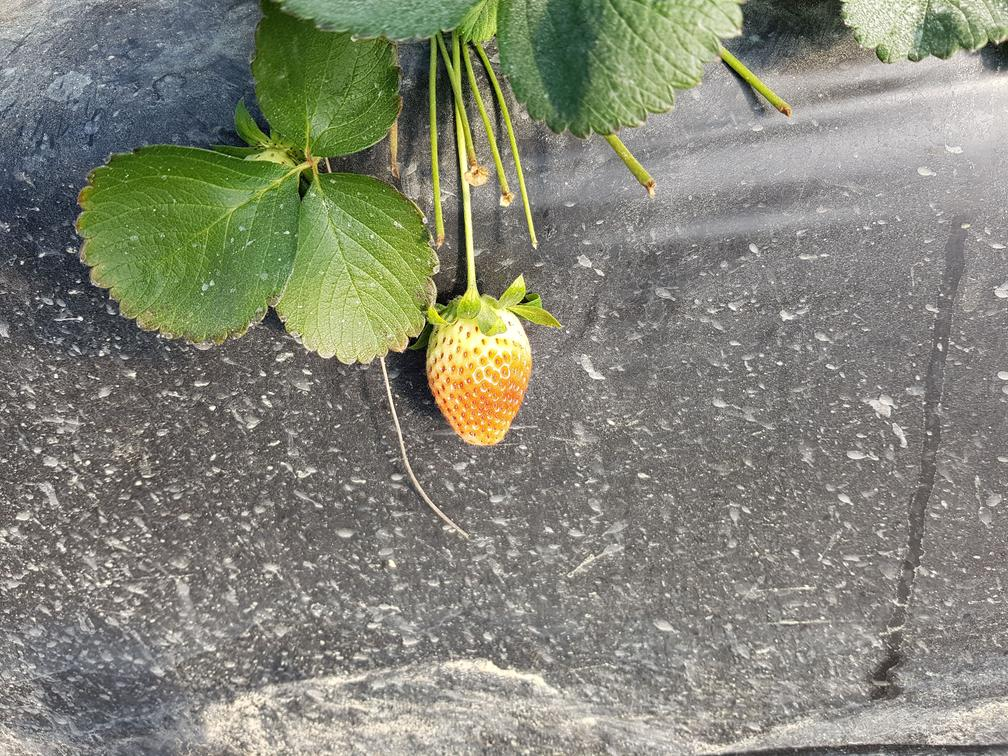Unripe: (424, 298, 542, 451)
